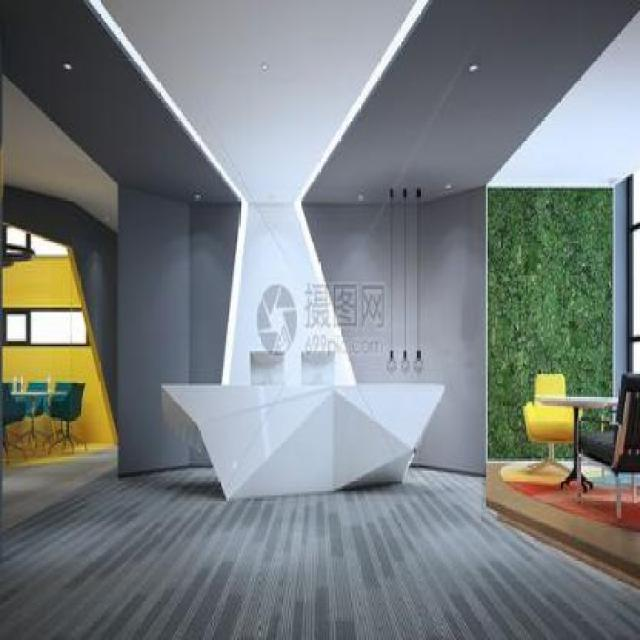frontdesk: (156, 364, 450, 508)
